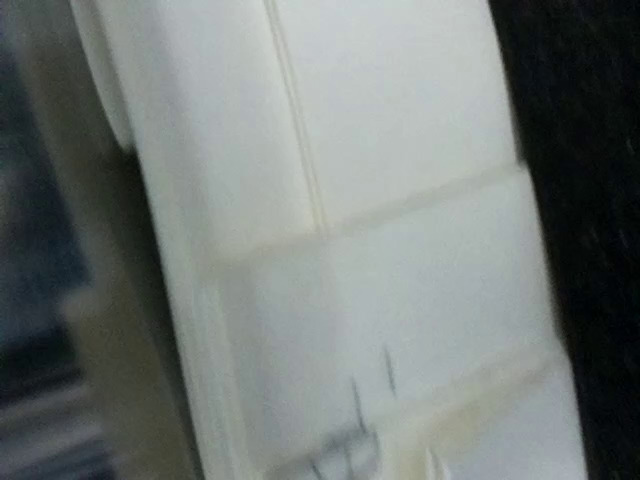not_sure: (265, 374, 382, 480)
